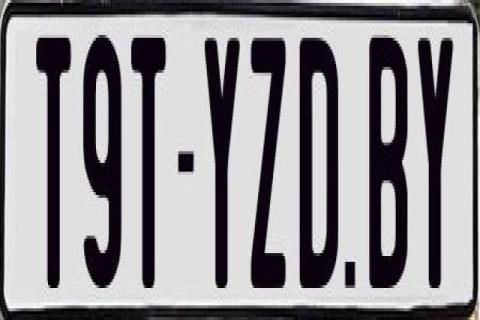0: (80, 29, 124, 297)
B: (367, 32, 409, 288)
D: (298, 35, 336, 303)
T: (35, 35, 75, 297), (131, 38, 166, 306)
Y: (205, 35, 242, 299), (416, 29, 452, 279)
Z: (250, 29, 291, 297)
